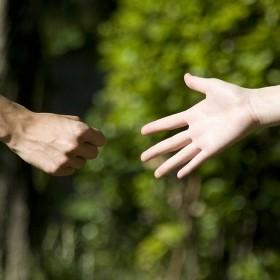gu-: (20, 111, 106, 179)
pa-: (140, 72, 251, 182)
